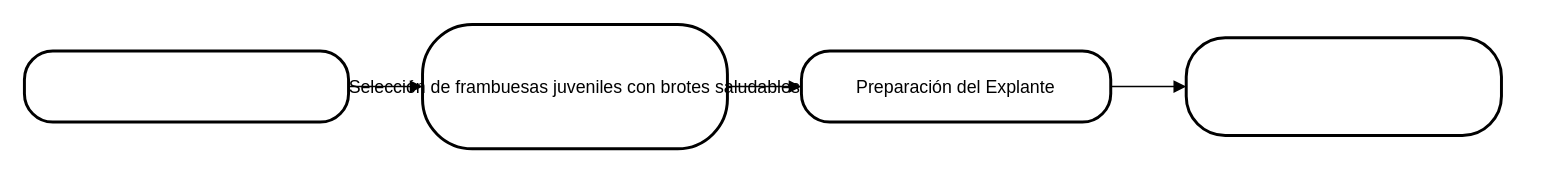
Image size: 1563x173. Some labels were removed from this diagram. The centre of each missing label's shape, as x and y in pixels:
"Corte de segmentos de tallo de 30 cm con yemas" goes at (x=1343, y=86).
"Selección de Planta Madre" goes at (x=185, y=86).
